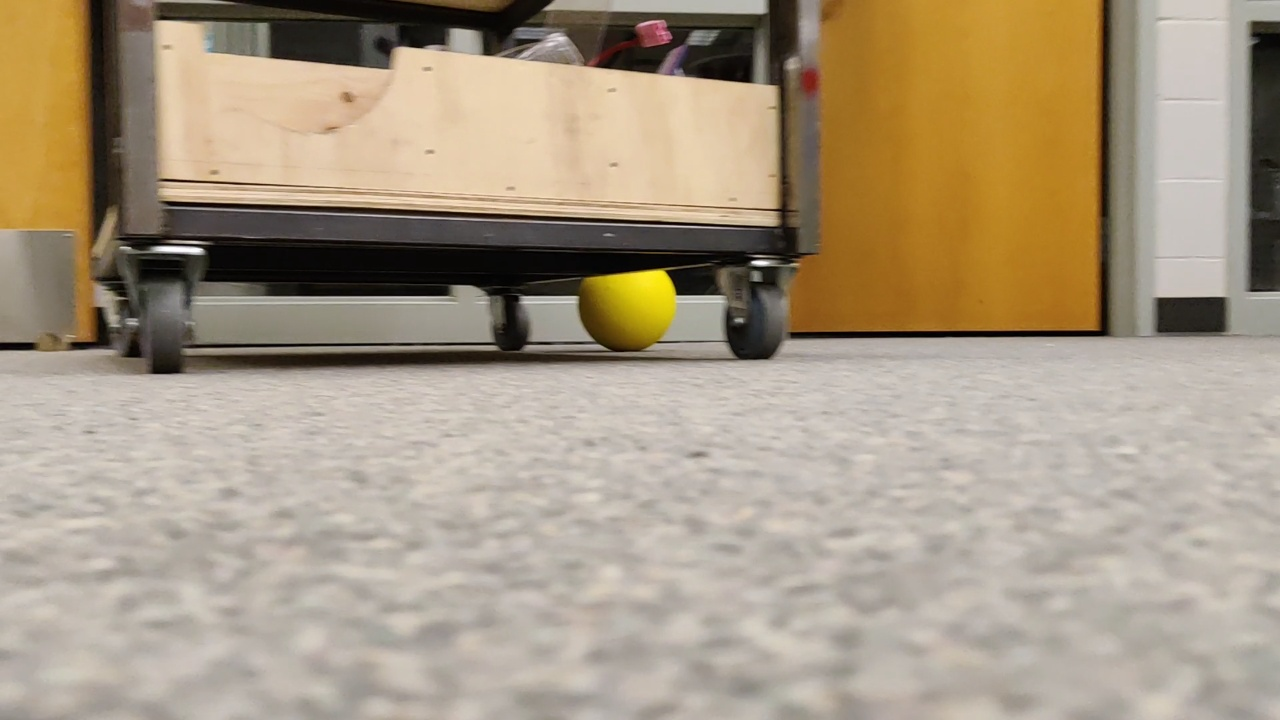Ball: (581, 261, 672, 357)
